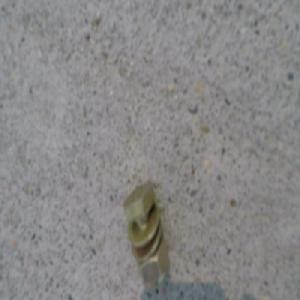BoltNutSet: (124, 181, 170, 283)
